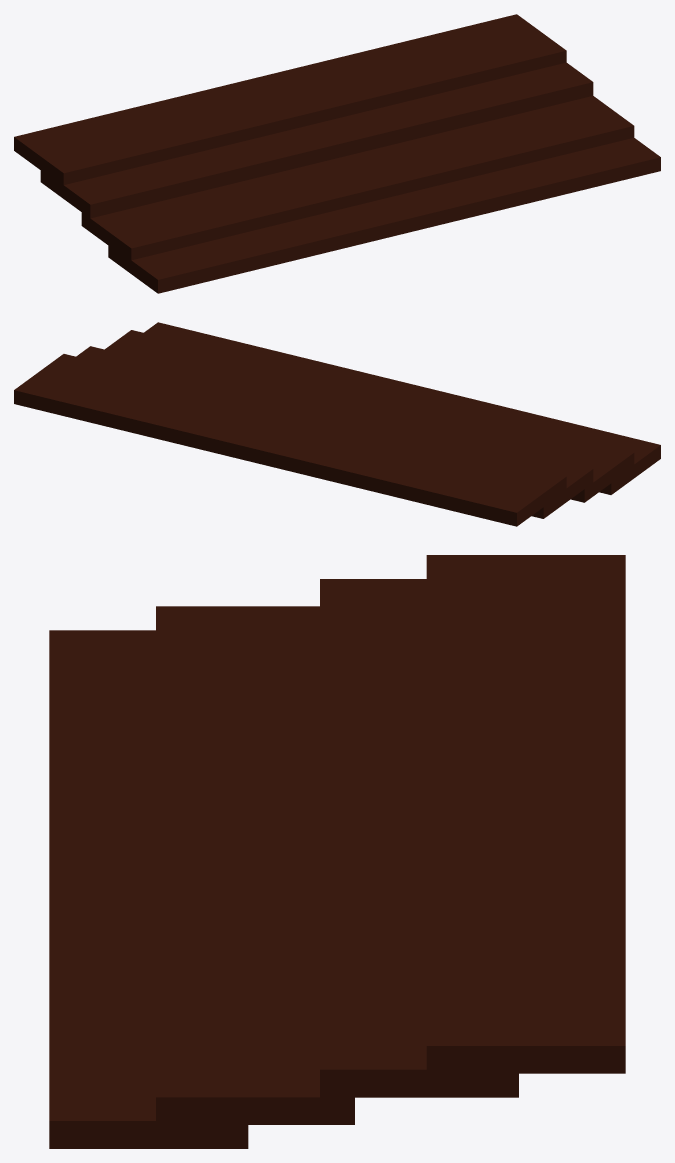
File: BrownStaircase.fbx
The picture shows the model from 3 angles, top to bottom: view 1: azimuth 30°, elevation 25°; view 2: azimuth 150°, elevation 25°; view 3: azimuth 270°, elevation 25°; orthographic projection. The views are drawn at different scales.
Visible parts, largest first — view 1: BrownStaircase; view 2: BrownStaircase; view 3: BrownStaircase.
Boxes of the visible parts, bbox=[...] form: BrownStaircase: bbox=[14, 14, 660, 293]; BrownStaircase: bbox=[14, 322, 660, 526]; BrownStaircase: bbox=[49, 555, 625, 1148].
Size of the model in its own units: 606 by 59.19 by 301.
